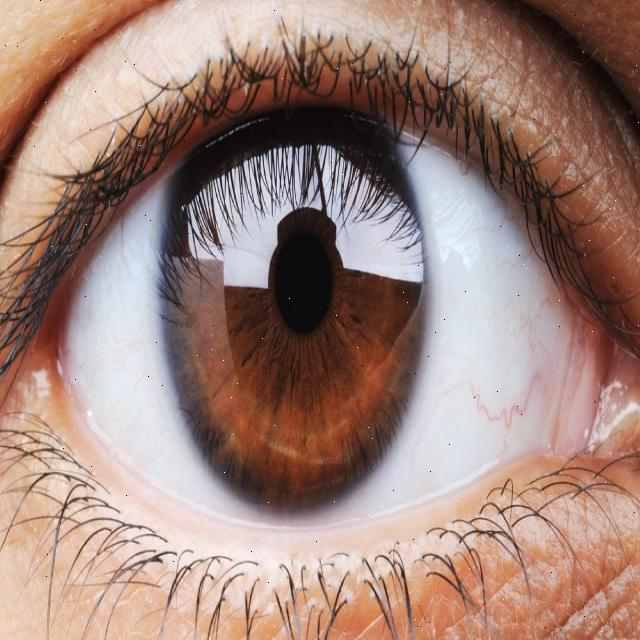Normal: (164, 66, 429, 514)
